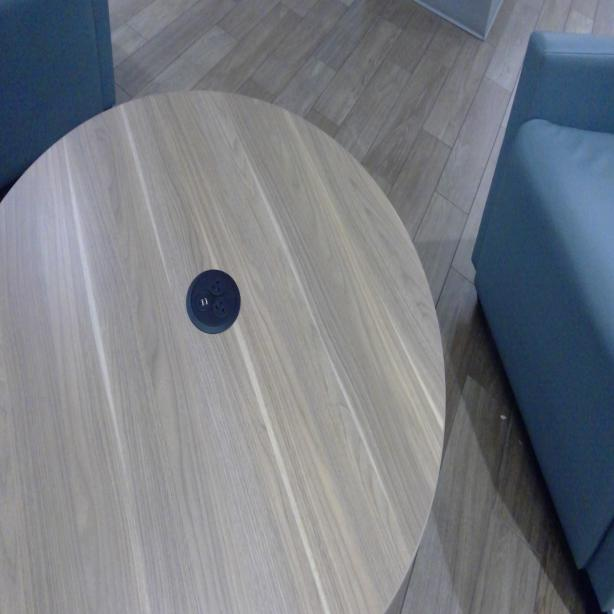typeb: (208, 274, 224, 295), (214, 298, 228, 318)
